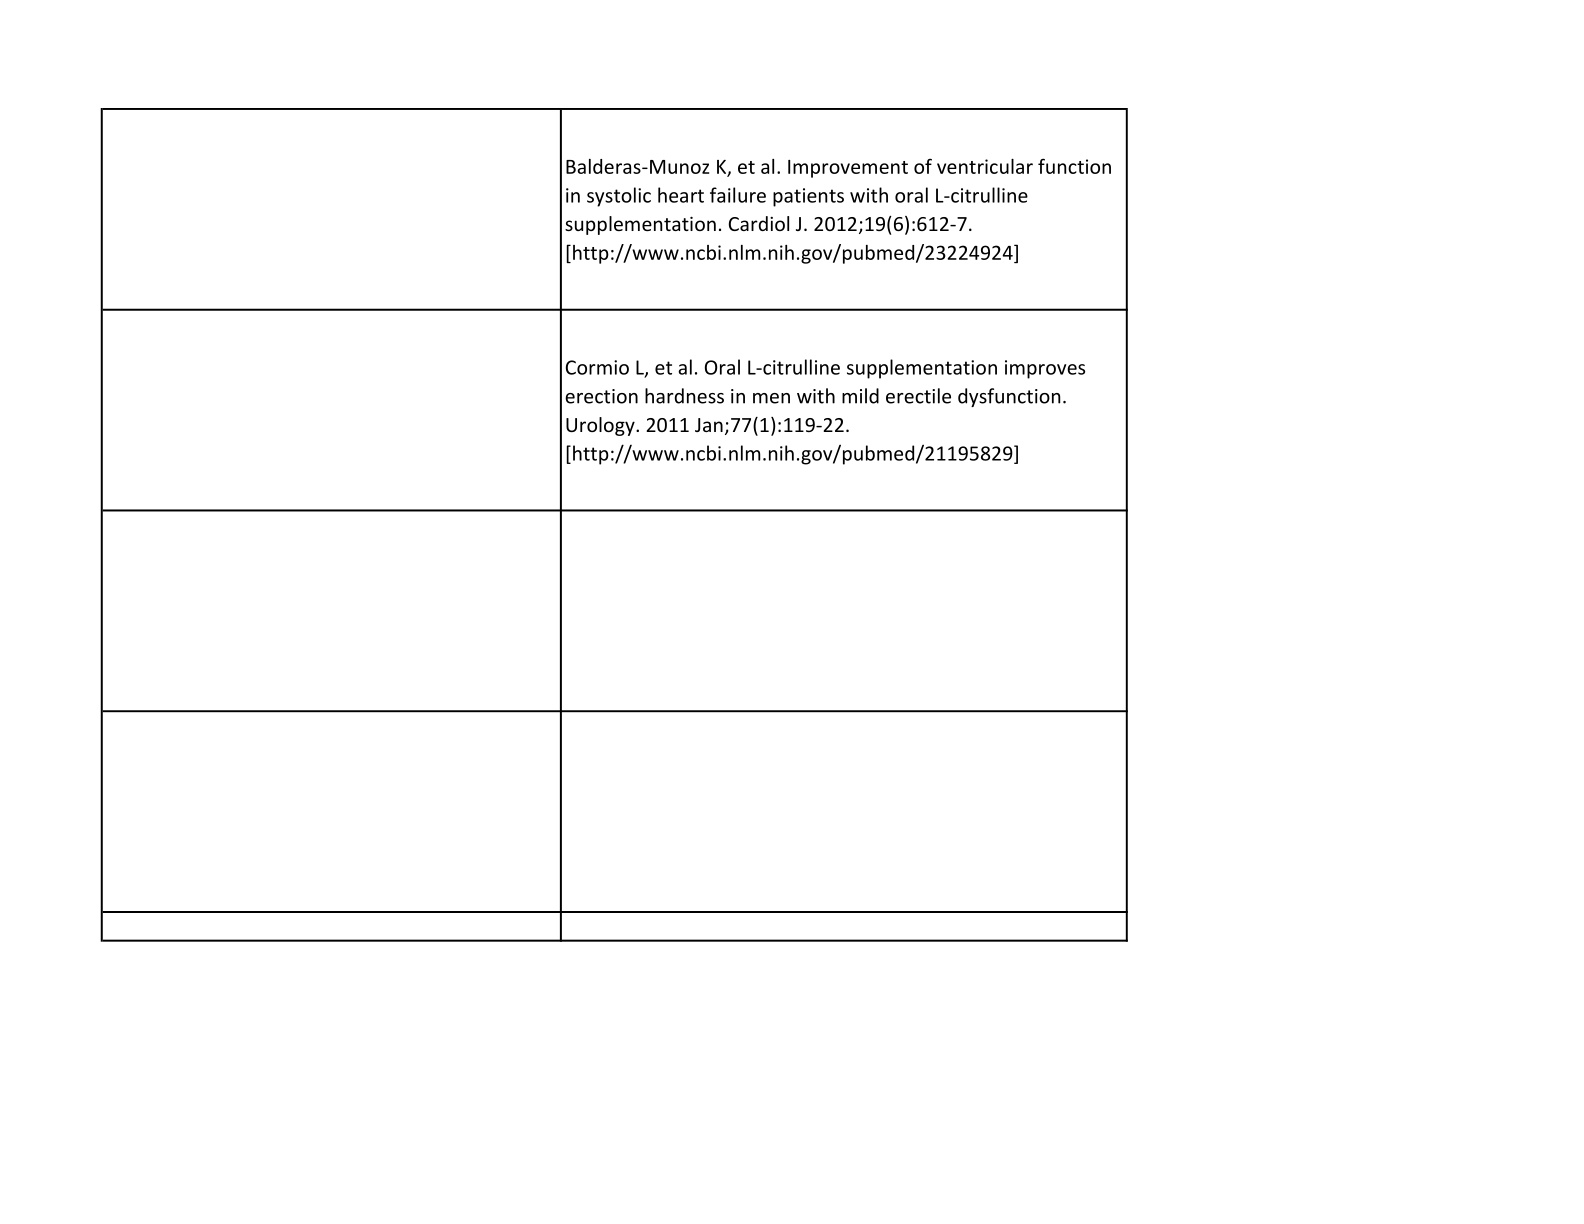full_lined: (100, 107, 1129, 942)
